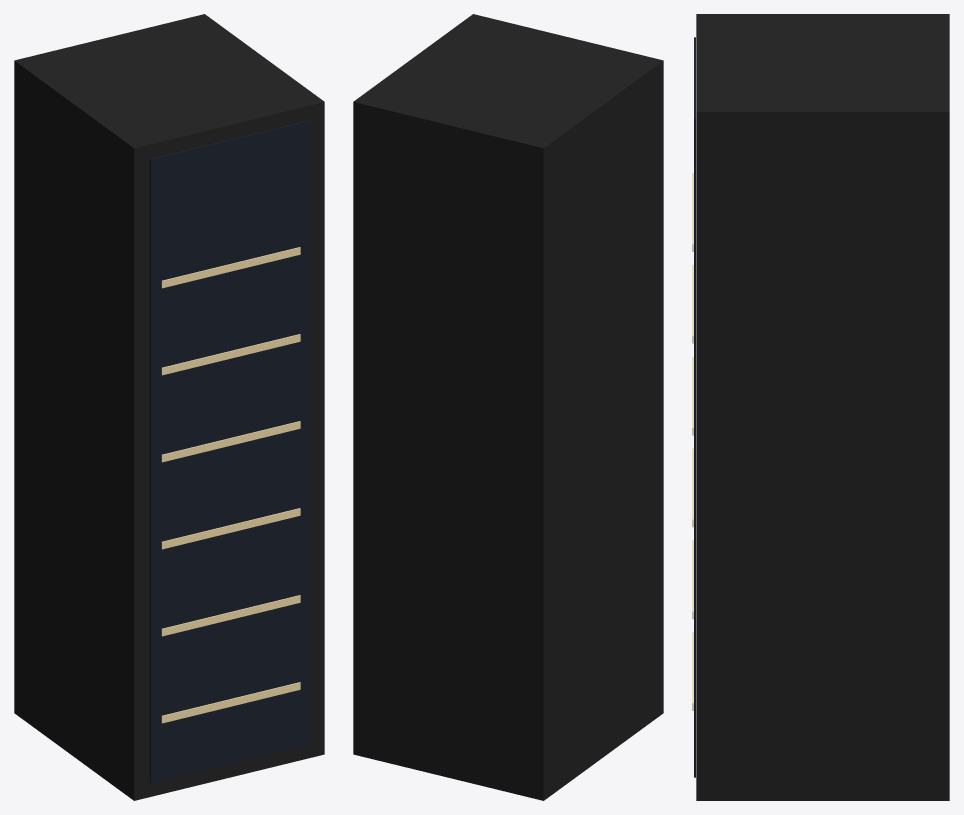
Rendered from rack_ti.obj.
3 views of the same model, side by side, from view 1: azimuth 30°, elevation 25°; view 2: azimuth 150°, elevation 25°; view 3: azimuth 270°, elevation 25° (orthographic). The views are drawn at different scales.
Parts seen in each view (by area): view 1: rack_ti; view 2: rack_ti; view 3: rack_ti.
Boxes of the visible parts, x1,y1,x2,y2 form: rack_ti: (14, 14, 324, 800); rack_ti: (353, 14, 663, 800); rack_ti: (692, 14, 949, 800).
Bounding box in the file's own units: 0.55 × 1.8 × 0.6096.
